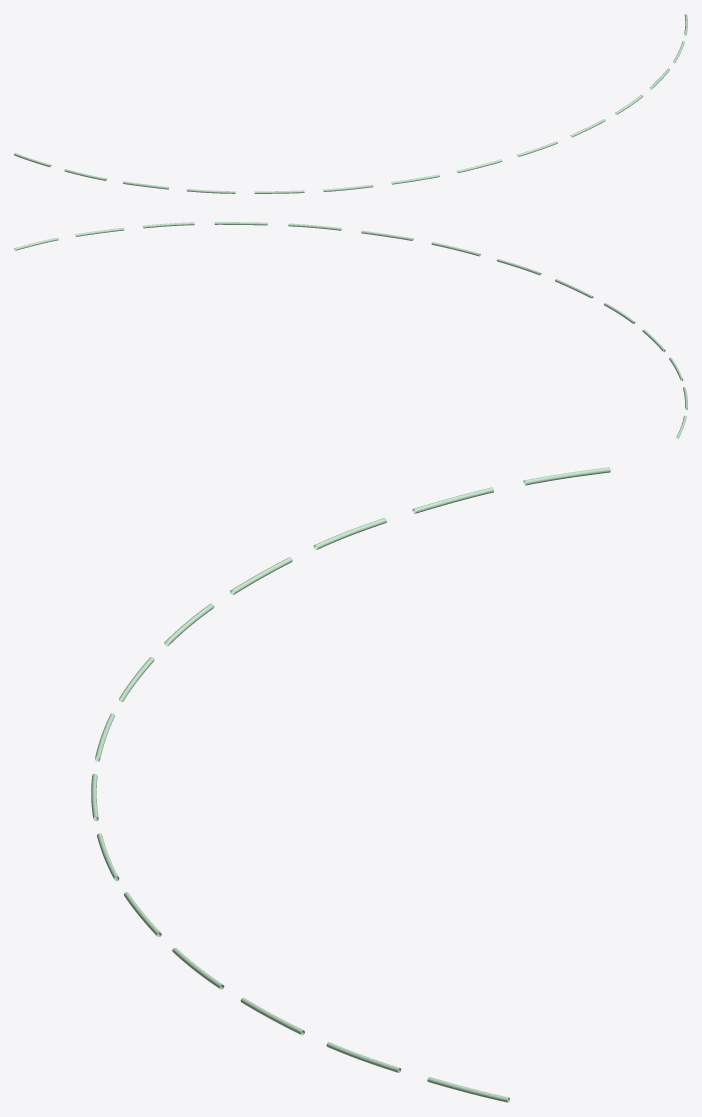
The model's file is Shore_Foam.fbx.
3 renders of one model, top to bottom at view 1: azimuth 30°, elevation 25°; view 2: azimuth 150°, elevation 25°; view 3: azimuth 270°, elevation 25°, orthographic. The views are drawn at different scales.
Parts seen in each view (by area): view 1: Shore_Foam; view 2: Shore_Foam; view 3: Shore_Foam.
Part boxes in pixels (x1,y1,x2,y2): Shore_Foam: [14, 14, 687, 193]; Shore_Foam: [14, 222, 687, 438]; Shore_Foam: [91, 467, 610, 1102].
Bounding box in the file's own units: 7556 × 2624 × 32.
